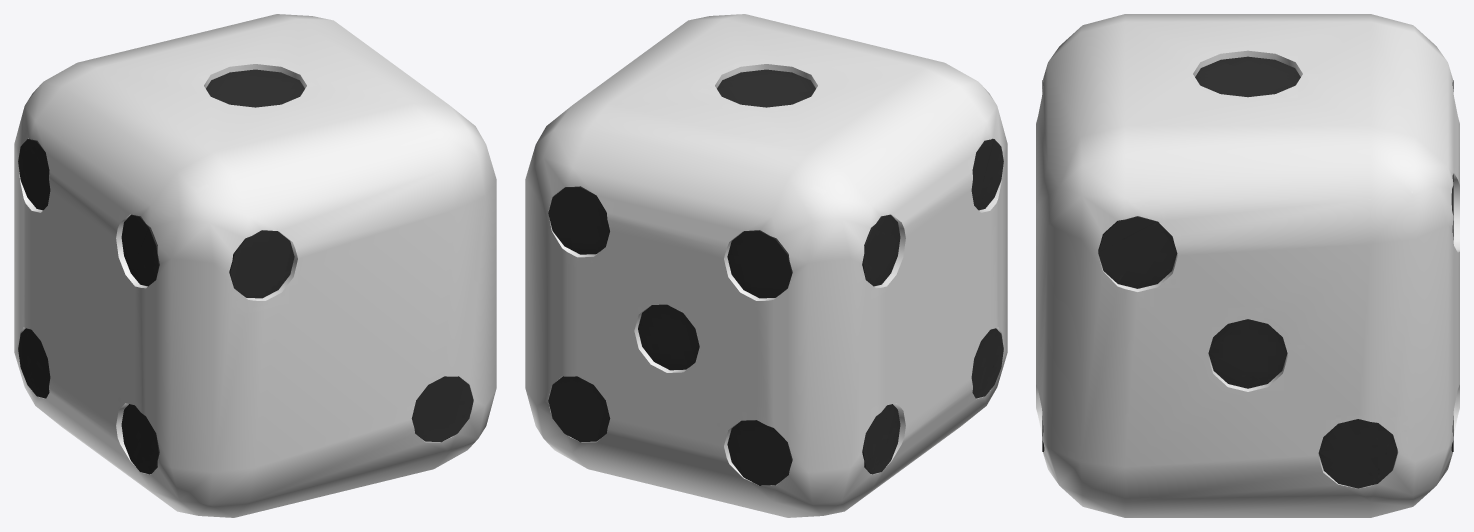
The model's file is die.glb.
The picture shows the model from 3 angles, left to right: view 1: azimuth 30°, elevation 25°; view 2: azimuth 150°, elevation 25°; view 3: azimuth 270°, elevation 25°; orthographic projection. The views are drawn at different scales.
Parts seen in each view (by area): view 1: DieBody, Pips; view 2: DieBody, Pips; view 3: DieBody, Pips.
Part boxes in pixels (x1=…): DieBody: x1=14, y1=14, x2=496, y2=517; Pips: x1=18, y1=69, x2=473, y2=474; DieBody: x1=525, y1=14, x2=1007, y2=517; Pips: x1=548, y1=69, x2=1003, y2=485; DieBody: x1=1036, y1=14, x2=1459, y2=517; Pips: x1=1042, y1=56, x2=1453, y2=488.
Size of the model in its own units: 0.02 by 0.02 by 0.02.
Materials: 1 (1 with a texture image).
